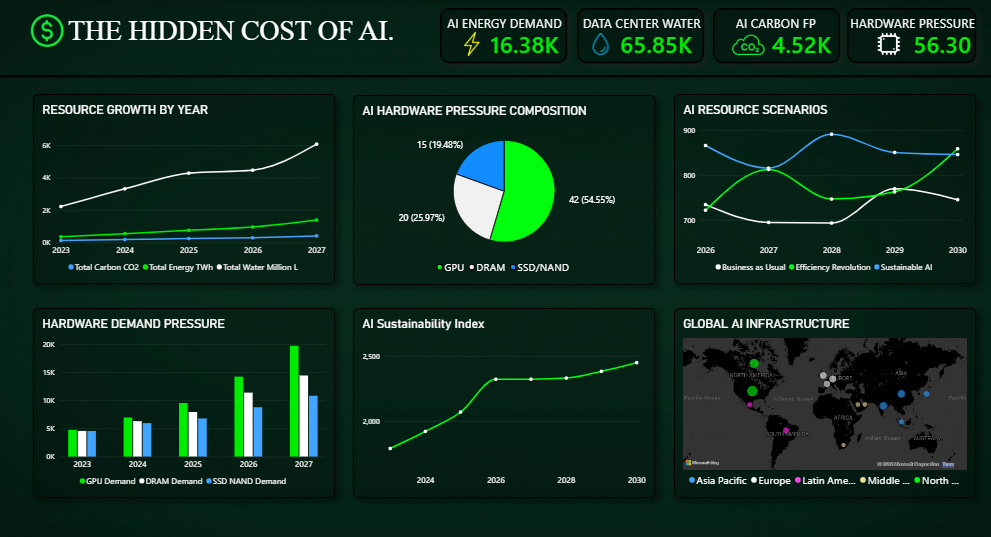

What the dashboard file says about the page in this screenshot:
{"tool":"powerbi","page":{"name":"Page 2","canvas":[1920,1080],"ordinal":1},"visuals":[{"type":"shape","box":[0,114,1920,70.6],"z":0},{"type":"shape","box":[852.5,17.5,245.7,107.4],"z":1000},{"type":"shape","box":[1116.1,16.5,245.7,107.4],"z":2000},{"type":"shape","box":[1379.7,16.5,245.7,107.4],"z":3000},{"type":"shape","box":[1638.9,16.7,250,106.7],"z":4000},{"type":"map","title":"GLOBAL AI INFRASTRUCTURE","fields":{"Category":["AI_Master_Data.Country"],"Series":["AI_Master_Data.Region"],"Size":["Sum(AI_Master_Data.Data_Center_Capacity_MW)"]},"box":[1304.3,597.1,585,367.5],"z":5000},{"type":"lineChart","title":"AI Sustainability Index","fields":{"Category":["AI_Master_Data.Year"],"Y":["Sum(AI_Master_Data.AI_Sustainability_Index)"]},"box":[684.1,597.1,585,367.5],"z":6000},{"type":"pieChart","title":"AI HARDWARE PRESSURE COMPOSITION","fields":{"Category":["Hardware.Hardware Type"],"Y":["Sum(Hardware.Pressure Share (%))"]},"box":[682.6,185.5,585,367.5],"z":7000},{"type":"textbox","box":[132.5,30,646.3,75.9],"z":8000},{"type":"image","box":[50,23.6,82.4,75.9],"z":9000},{"type":"cardVisual","fields":{"Data":["AI_Master_Data.Total Energy TWh"]},"box":[857.5,30,240,110],"z":10000},{"type":"textbox","box":[835,30,285,55],"z":11000},{"type":"cardVisual","fields":{"Data":["AI_Master_Data.Total Water Million L"]},"box":[1116.1,37.9,239.3,91.9],"z":12000},{"type":"textbox","box":[1116.2,30,250.9,37.9],"z":13000},{"type":"cardVisual","fields":{"Data":["Sum(AI_Master_Data.AI_Carbon_Emissions_MtCO2e)"]},"box":[1386.2,39.2,239.3,91.9],"z":14000},{"type":"textbox","box":[1376.5,31.2,251.2,35],"z":15000},{"type":"cardVisual","fields":{"Data":["AI_Master_Data.Avg Hardware Pressure"]},"box":[1656.5,39,239.3,91.9],"z":16000},{"type":"textbox","box":[1638.7,30,254,36.7],"z":17000},{"type":"clusteredColumnChart","title":"HARDWARE DEMAND PRESSURE","fields":{"Category":["AI_Master_Data.Year"],"Y":["Sum(AI_Master_Data.GPU_Demand_Index)","Sum(AI_Master_Data.DRAM_Demand_Index)","Sum(AI_Master_Data.SSD_NAND_Demand_Index)"]},"box":[63.8,597.1,585,367.5],"z":18000},{"type":"lineChart","title":"RESOURCE GROWTH BY YEAR","fields":{"Category":["AI_Master_Data.Year"],"Y":["AI_Master_Data.Total Carbon MtCO2e","AI_Master_Data.Total Energy TWh","AI_Master_Data.Total Water Million L"]},"box":[64,184,585,367.5],"z":19000},{"type":"lineChart","title":"AI RESOURCE SCENARIOS","fields":{"Category":["AI_Master_Data.Year"],"Series":["AI_Master_Data.Scenario"],"Y":["Sum(AI_Master_Data.AI_Sustainability_Index)"]},"box":[1304.3,184.1,585,367.5],"z":20000},{"type":"image","box":[850,60,127.1,54.2],"z":21000},{"type":"image","box":[1097.8,64.4,130,45.6],"z":21001},{"type":"image","box":[1380,57.8,137.1,62.9],"z":21002},{"type":"image","box":[1657.5,60,127.1,54.2],"z":21003}]}

Visuals, with their boxes on the page's 1920x1080 design canvas (x1, y1, x2, y2). These are canvas units, not pixel positions in the 991x537 screenshot, which may show the page scaled, cropped or inside an application window:
shape: 0/114/1920/185
shape: 852/18/1098/125
shape: 1116/16/1362/124
shape: 1380/16/1625/124
shape: 1639/17/1889/123
"GLOBAL AI INFRASTRUCTURE" map: 1304/597/1889/965
"AI Sustainability Index" lineChart: 684/597/1269/965
"AI HARDWARE PRESSURE COMPOSITION" pieChart: 683/186/1268/553
textbox: 132/30/779/106
image: 50/24/132/100
cardVisual - AI_Master_Data.Total Energy TWh: 858/30/1098/140
textbox: 835/30/1120/85
cardVisual - AI_Master_Data.Total Water Million L: 1116/38/1355/130
textbox: 1116/30/1367/68
cardVisual - Sum(AI_Master_Data.AI_Carbon_Emissions_MtCO2e): 1386/39/1626/131
textbox: 1376/31/1628/66
cardVisual - AI_Master_Data.Avg Hardware Pressure: 1656/39/1896/131
textbox: 1639/30/1893/67
"HARDWARE DEMAND PRESSURE" clusteredColumnChart: 64/597/649/965
"RESOURCE GROWTH BY YEAR" lineChart: 64/184/649/552
"AI RESOURCE SCENARIOS" lineChart: 1304/184/1889/552
image: 850/60/977/114
image: 1098/64/1228/110
image: 1380/58/1517/121
image: 1658/60/1785/114
